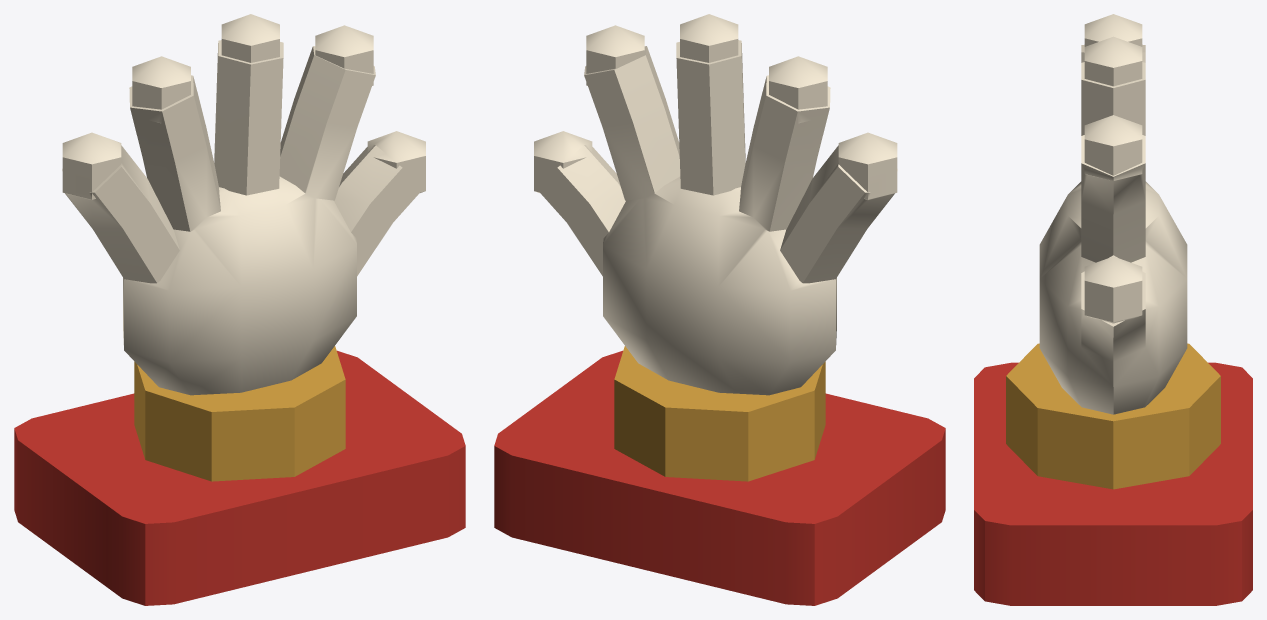
File: glove-finial.glb
3 views of the same model, side by side, from view 1: azimuth 30°, elevation 25°; view 2: azimuth 150°, elevation 25°; view 3: azimuth 270°, elevation 25° (orthographic).
Parts seen in each view (by area): view 1: glove-finial; view 2: glove-finial; view 3: glove-finial.
Boxes of the visible parts, x1,y1,x2,y2 form: glove-finial: [14, 14, 465, 605]; glove-finial: [494, 14, 945, 605]; glove-finial: [974, 14, 1252, 605].
Size of the model in its own units: 1.67 by 2.2 by 1.13.
Materials: 1 (1 with a texture image).
